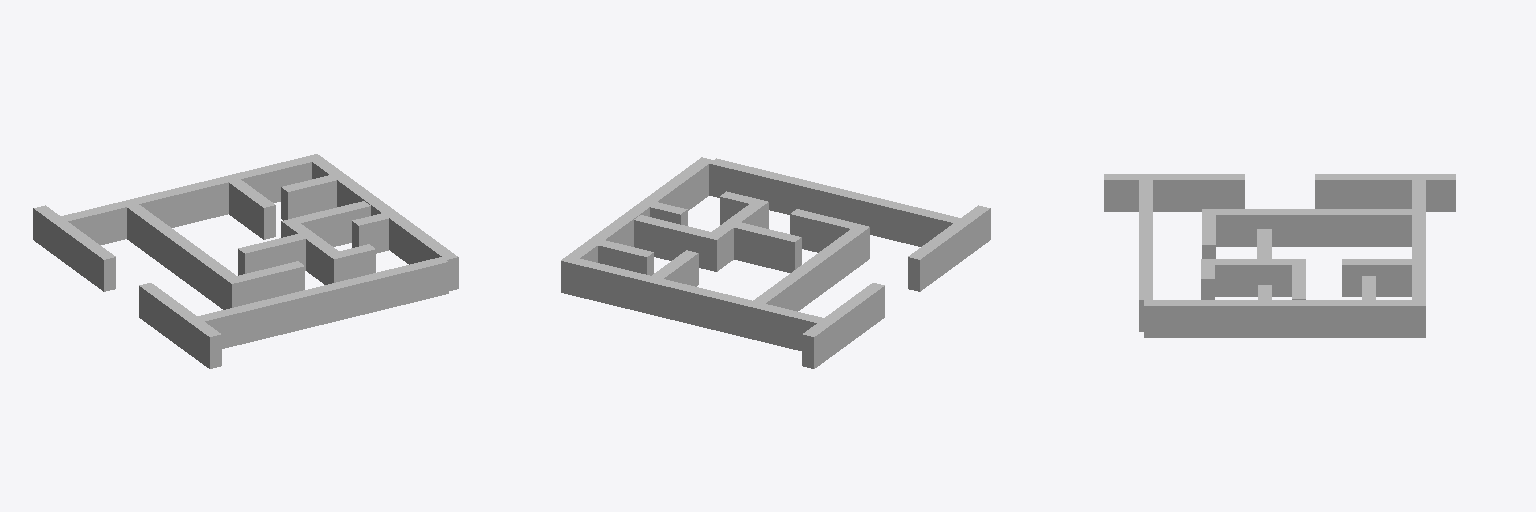
File: MazeFloor.obj
3 views of the same model, side by side, from view 1: azimuth 30°, elevation 25°; view 2: azimuth 150°, elevation 25°; view 3: azimuth 270°, elevation 25° (orthographic).
Parts seen in each view (by area): view 1: stone_wall.025_stone_wall.000, stone_wall.020_stone_wall.000, stone_wall.018_stone_wall.000, stone_wall.022_stone_wall.000, stone_wall.026_stone_wall.000, stone_wall.024_stone_wall.000, stone_wall.021_stone_wall.000, stone_wall.022_stone_wall.001, stone_wall.026, stone_wall.024, stone_wall.018_stone_wall.019, stone_wall.021_stone_wall.020 (+7 smaller); view 2: stone_wall.026_stone_wall.000, stone_wall.024_stone_wall.000, stone_wall.025_stone_wall.000, stone_wall.020_stone_wall.000, stone_wall.018_stone_wall.000, stone_wall.022_stone_wall.000, stone_wall.021_stone_wall.020, stone_wall.021_stone_wall.000, stone_wall.022_stone_wall.001, stone_wall.025, stone_wall.022_stone_wall.002, stone_wall.018_stone_wall.019 (+7 smaller); view 3: stone_wall.022_stone_wall.001, stone_wall.021_stone_wall.000, stone_wall.022_stone_wall.002, stone_wall.022_stone_wall.000, stone_wall.018_stone_wall.000, stone_wall.024, stone_wall.022_stone_wall.021, stone_wall.020_stone_wall.019, stone_wall.025_stone_wall.000, stone_wall.013_stone_wall.002, stone_wall.020_stone_wall.000, stone_wall.026_stone_wall.000 (+2 smaller).
Boxes of the visible parts, x1=… form: stone_wall.025_stone_wall.000: x1=320, y1=257, x2=448, y2=323; stone_wall.020_stone_wall.000: x1=197, y1=287, x2=326, y2=348; stone_wall.018_stone_wall.000: x1=33, y1=205, x2=115, y2=291; stone_wall.022_stone_wall.000: x1=139, y1=283, x2=221, y2=368; stone_wall.026_stone_wall.000: x1=183, y1=157, x2=311, y2=223; stone_wall.024_stone_wall.000: x1=61, y1=187, x2=189, y2=244; stone_wall.021_stone_wall.000: x1=127, y1=204, x2=207, y2=289; stone_wall.022_stone_wall.001: x1=376, y1=206, x2=458, y2=290; stone_wall.026: x1=281, y1=172, x2=347, y2=220; stone_wall.024: x1=229, y1=179, x2=275, y2=239; stone_wall.018_stone_wall.019: x1=238, y1=261, x2=304, y2=304; stone_wall.021_stone_wall.020: x1=238, y1=234, x2=305, y2=275; stone_wall.026_stone_wall.000: x1=573, y1=259, x2=701, y2=324; stone_wall.024_stone_wall.000: x1=695, y1=288, x2=823, y2=350; stone_wall.025_stone_wall.000: x1=709, y1=158, x2=837, y2=216; stone_wall.020_stone_wall.000: x1=832, y1=188, x2=960, y2=246; stone_wall.018_stone_wall.000: x1=802, y1=283, x2=884, y2=368; stone_wall.022_stone_wall.000: x1=908, y1=205, x2=990, y2=291; stone_wall.021_stone_wall.020: x1=734, y1=222, x2=801, y2=272; stone_wall.021_stone_wall.000: x1=753, y1=250, x2=834, y2=311; stone_wall.022_stone_wall.001: x1=632, y1=157, x2=713, y2=216; stone_wall.025: x1=643, y1=222, x2=710, y2=268; stone_wall.022_stone_wall.002: x1=561, y1=209, x2=642, y2=295; stone_wall.018_stone_wall.019: x1=790, y1=209, x2=856, y2=252; stone_wall.022_stone_wall.001: x1=1144, y1=300, x2=1284, y2=337; stone_wall.021_stone_wall.000: x1=1272, y1=209, x2=1412, y2=246; stone_wall.022_stone_wall.002: x1=1285, y1=300, x2=1425, y2=337; stone_wall.022_stone_wall.000: x1=1104, y1=174, x2=1244, y2=211; stone_wall.018_stone_wall.000: x1=1315, y1=174, x2=1455, y2=211; stone_wall.024: x1=1342, y1=259, x2=1411, y2=296; stone_wall.022_stone_wall.021: x1=1201, y1=259, x2=1271, y2=296; stone_wall.020_stone_wall.019: x1=1202, y1=209, x2=1271, y2=246; stone_wall.025_stone_wall.000: x1=1139, y1=240, x2=1152, y2=331; stone_wall.013_stone_wall.002: x1=1271, y1=259, x2=1305, y2=296; stone_wall.020_stone_wall.000: x1=1139, y1=180, x2=1152, y2=239; stone_wall.026_stone_wall.000: x1=1412, y1=240, x2=1425, y2=299.
Bounding box in the file's own units: 52.73 × 6 × 59.86.